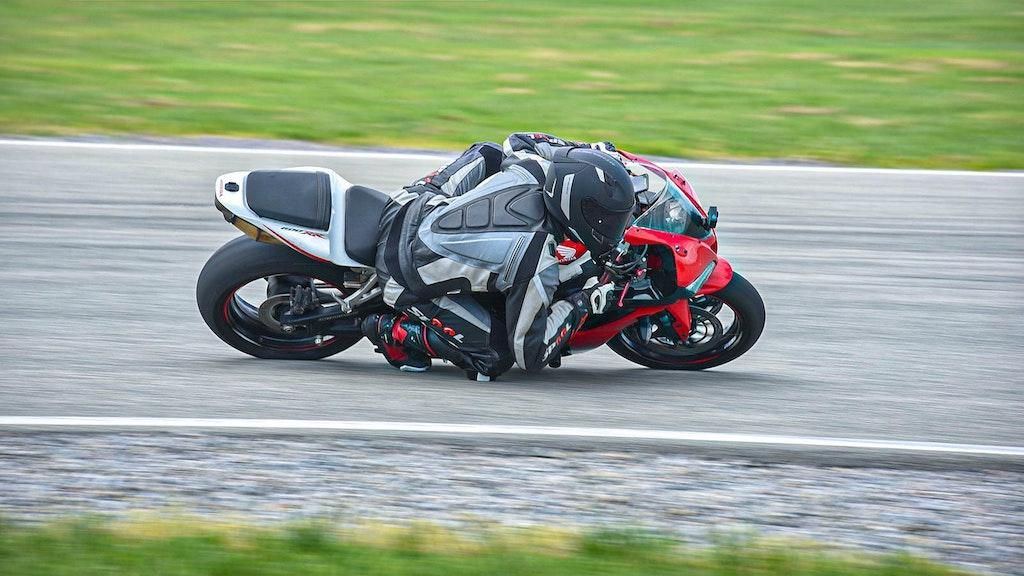helmet: (542, 145, 635, 255)
